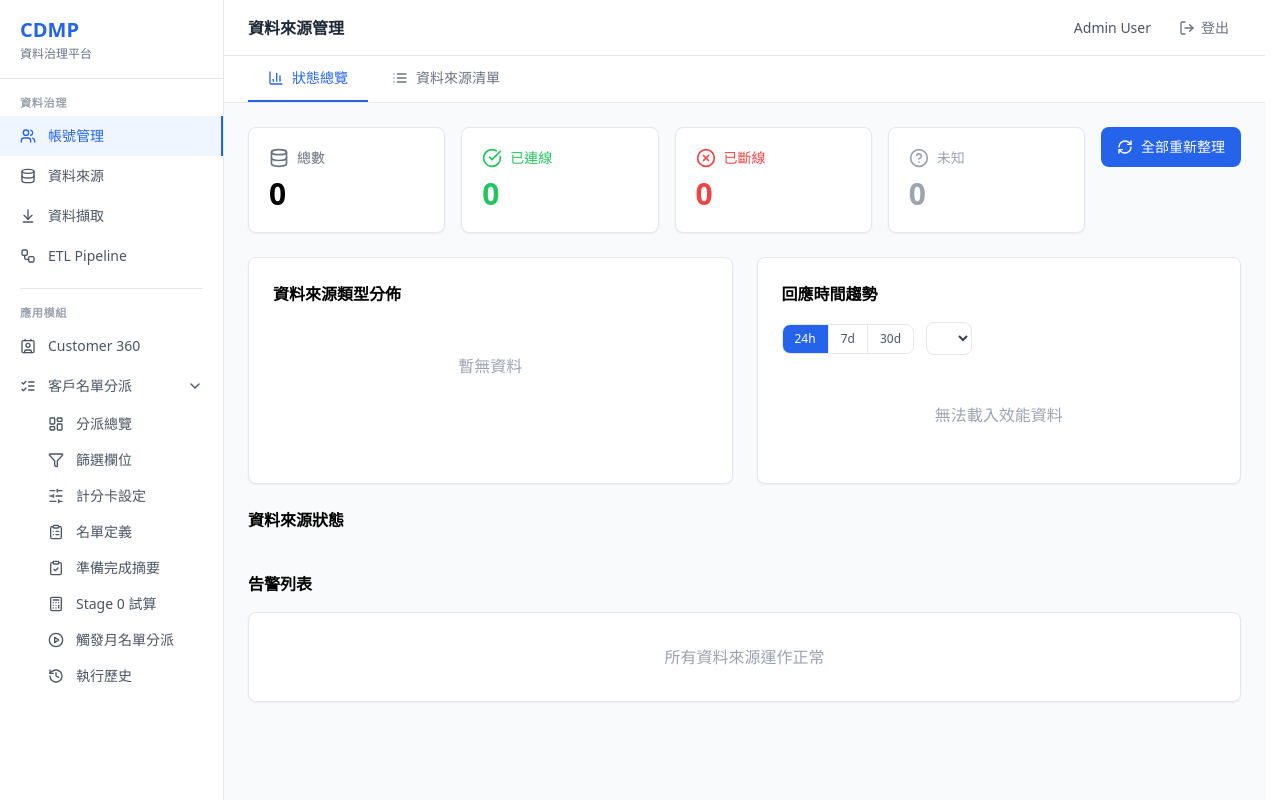
Scenario: DatasourceListPage › 刪除資料來源 › should close modal when cancel button clicked
Click the tab with test id "tab-list" at (446, 79), box [372,56,520,102]
Wait 1350 ms
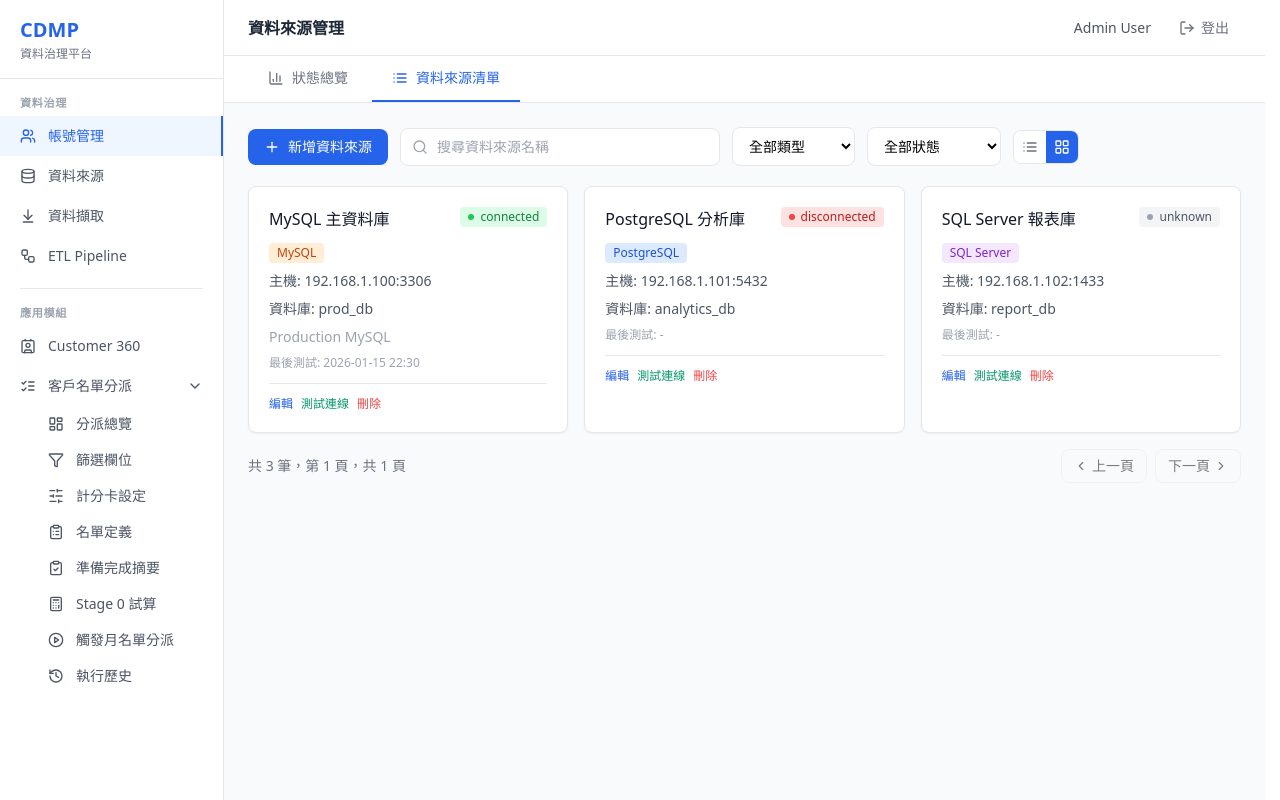
Click the button "刪除" below "2026-01-15 22:30" at (369, 404), box [357,396,381,412]
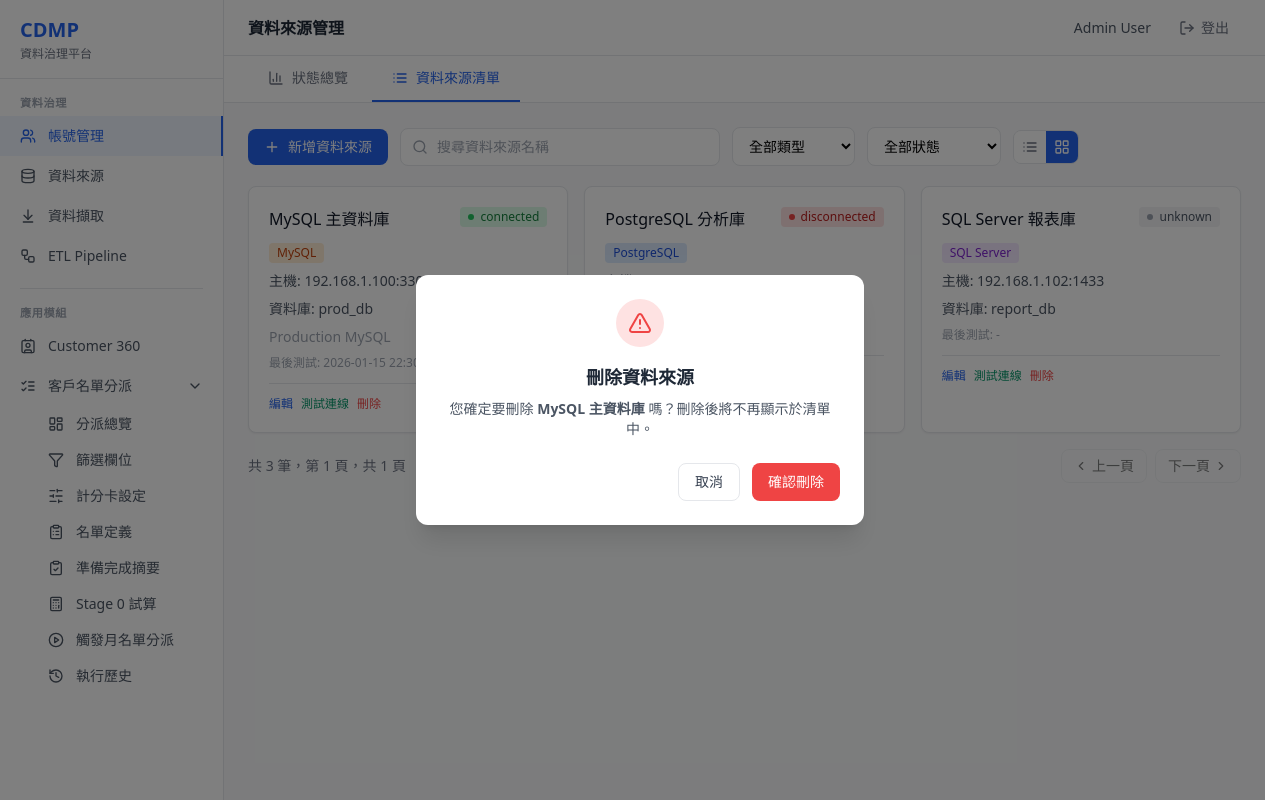
Result: the heading "刪除資料來源" is shown at [586,365,694,389]
Click the button "取消" at (709, 482), box [678,463,740,501]
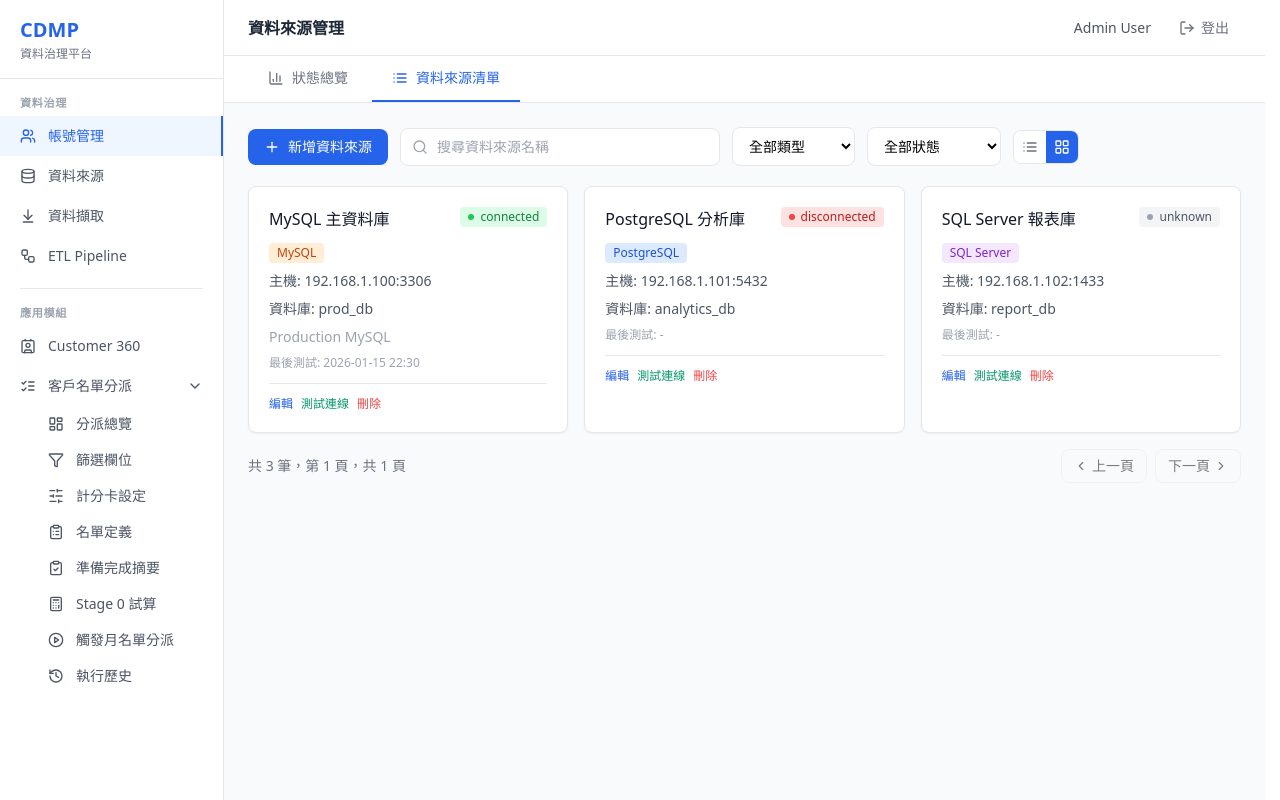
Result: the heading "刪除資料來源" is gone
